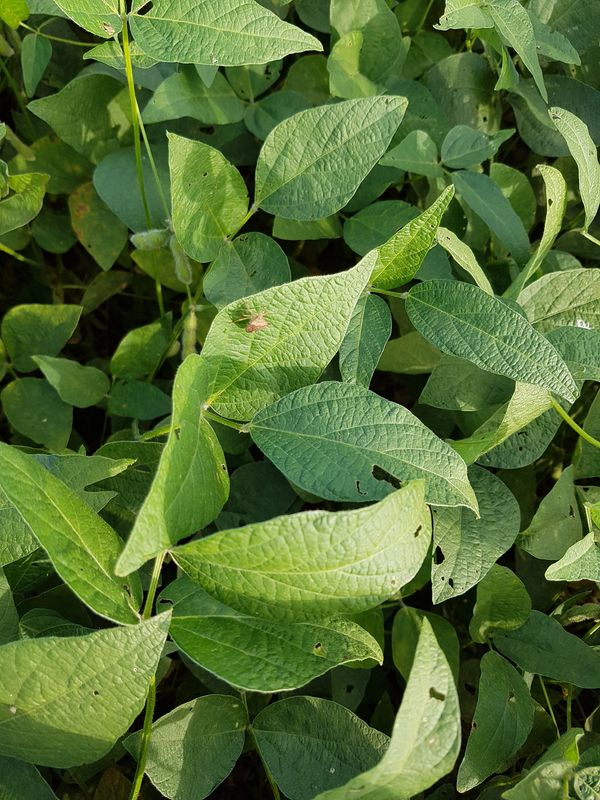Euschistus_heros_adulto: (231, 301, 279, 342)
